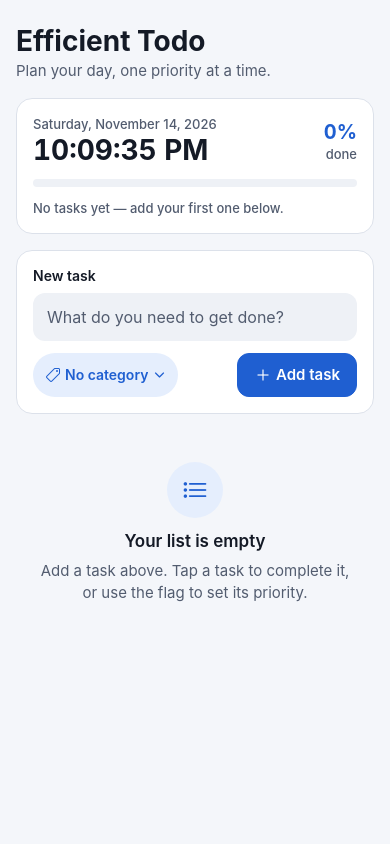
Test: warns when a change cannot be saved
expect the text "Your list is empty" is shown: met, box [124,530,266,552]
In the field named "New task": point(195, 317) [33,293,357,341], type "Will not persist"
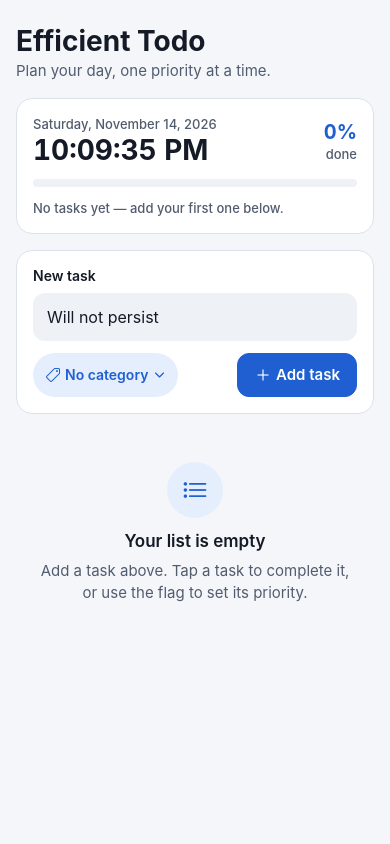
Click the button "Add task": point(297, 375) [237,353,357,397]
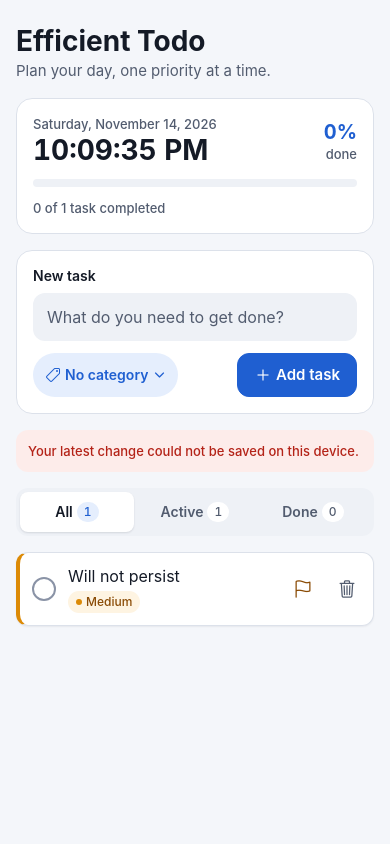
expect the text "Your latest change could not be saved on this device." is shown: met, box [28,442,362,460]
